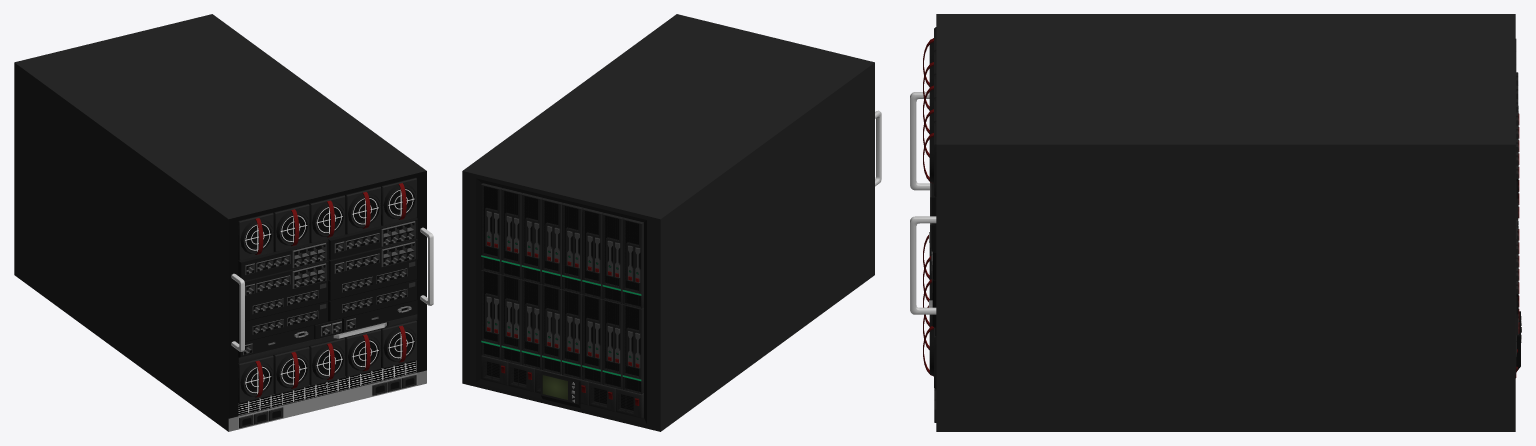
3 renders of one model, left to right at view 1: azimuth 30°, elevation 25°; view 2: azimuth 150°, elevation 25°; view 3: azimuth 270°, elevation 25°, orthographic. The views are drawn at different scales.
Parts seen in each view (by area): view 1: HPE_C7000; view 2: HPE_C7000; view 3: HPE_C7000.
Boxes of the visible parts, x1,y1,x2,y2 form: HPE_C7000: [14, 14, 433, 431]; HPE_C7000: [462, 14, 881, 431]; HPE_C7000: [910, 14, 1521, 431].
Size of the model in its own units: 434 by 445 by 859.
Materials: 22 (4 with a texture image).
